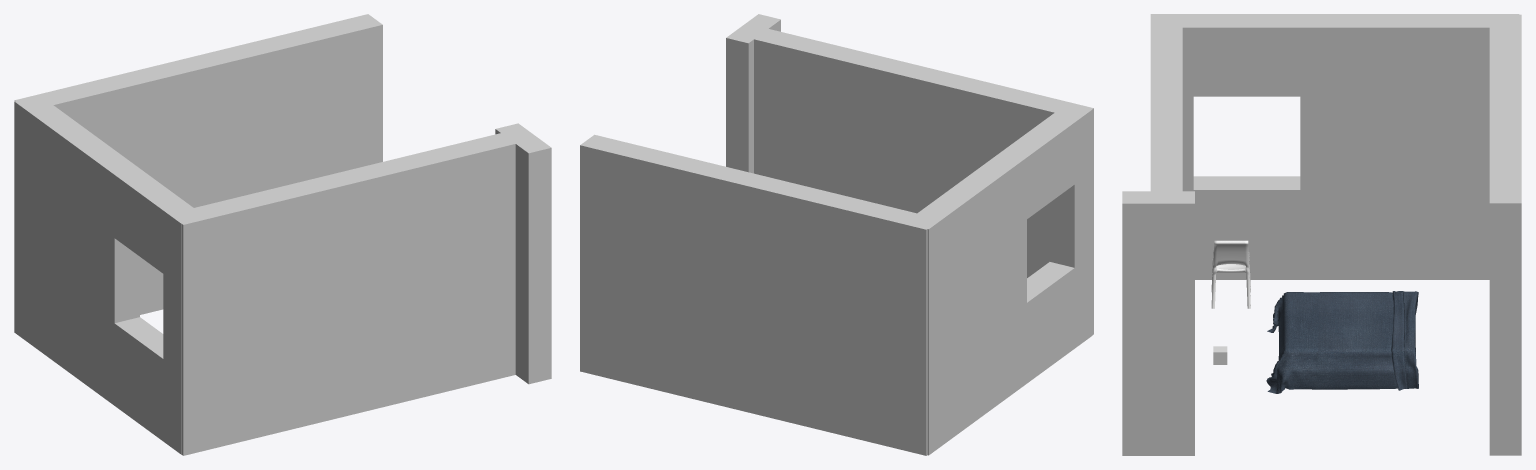
The model's file is bed.glb.
3 views of the same model, side by side, from view 1: azimuth 30°, elevation 25°; view 2: azimuth 150°, elevation 25°; view 3: azimuth 270°, elevation 25° (orthographic). The views are drawn at different scales.
Visible parts, largest first — view 1: Cube.003, Cube.001, Cube.002; view 2: Cube.002, Cube.003, Cube.001; view 3: Cube.001, Cube.003, Cube.002, Bed 01, Chair.
Part boxes in pixels (x1,y1,x2,y2): Cube.003: [181, 123, 551, 455]; Cube.001: [14, 95, 206, 454]; Cube.002: [14, 14, 382, 314]; Cube.002: [580, 134, 937, 455]; Cube.003: [726, 14, 1093, 335]; Cube.001: [904, 103, 1092, 455]; Cube.001: [1154, 14, 1519, 279]; Cube.003: [1122, 14, 1194, 455]; Cube.002: [1489, 14, 1521, 455]; Bed 01: [1266, 291, 1418, 393]; Chair: [1211, 240, 1250, 308].
Bounding box in the file's own units: 63.93 × 39.69 × 56.95.
3 materials, 1 textured.
